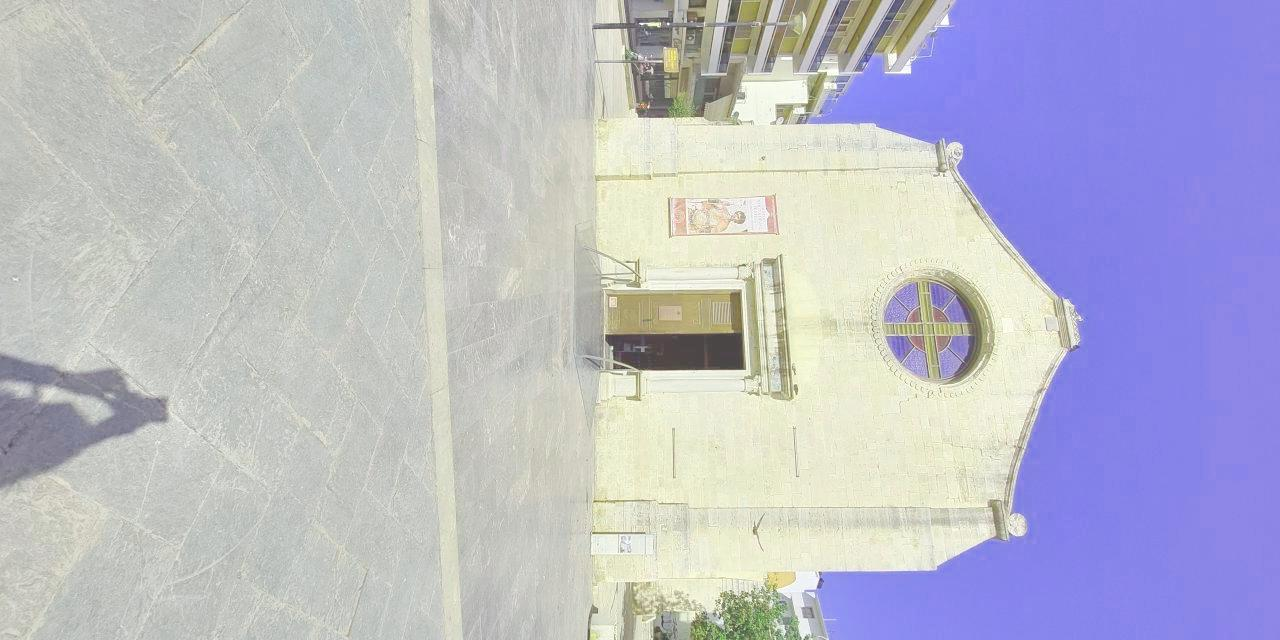Agia Aikaterini: (579, 125, 1092, 574)
